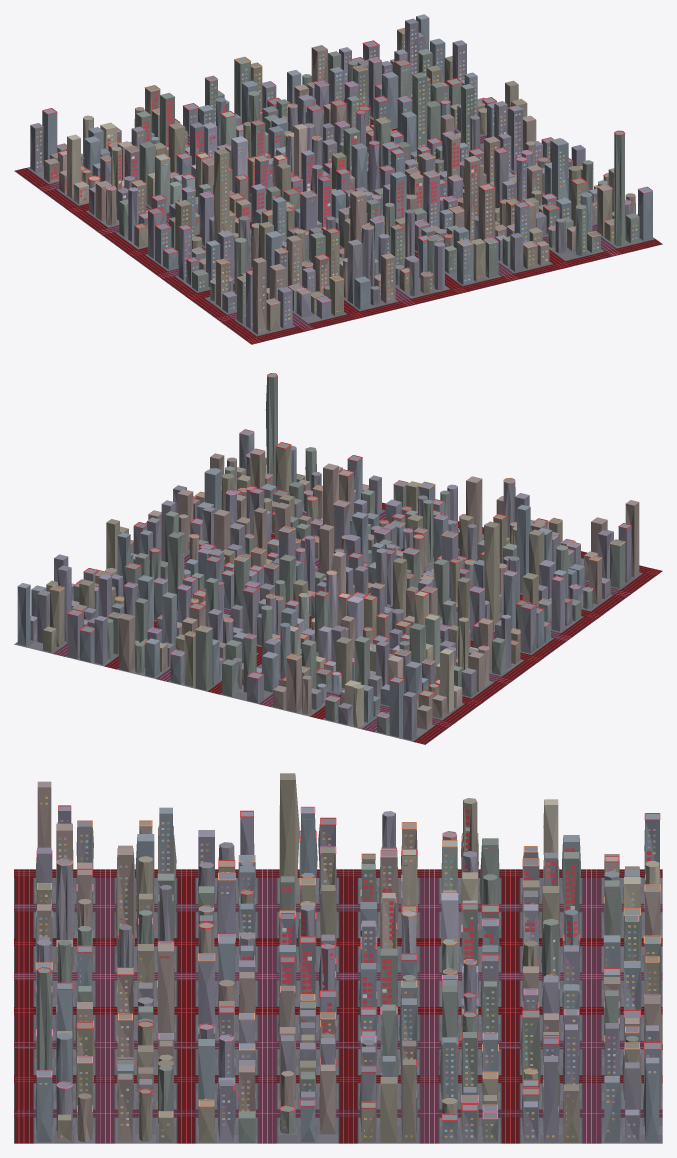
File: rebel_cell_district.glb
The picture shows the model from 3 angles, top to bottom: view 1: azimuth 30°, elevation 25°; view 2: azimuth 150°, elevation 25°; view 3: azimuth 270°, elevation 25°; orthographic projection. The views are drawn at different scales.
Parts seen in each view (by area): view 1: rebel_cell_district__solid, id_ground, rebel_cell_district__lines, rebel_cell_district__neon, rebel_cell_district__win_ring, rebel_cell_district__win_fist_dispatch; view 2: rebel_cell_district__solid, id_ground, rebel_cell_district__lines, rebel_cell_district__neon; view 3: rebel_cell_district__solid, id_ground, rebel_cell_district__lines, rebel_cell_district__neon, rebel_cell_district__win_ring, rebel_cell_district__win_fist_dispatch.
Boxes of the visible parts, x1=… form: rebel_cell_district__solid: x1=30, y1=14, x2=652, y2=334; id_ground: x1=14, y1=96, x2=662, y2=344; rebel_cell_district__lines: x1=58, y1=111, x2=307, y2=212; rebel_cell_district__neon: x1=42, y1=27, x2=652, y2=305; rebel_cell_district__win_ring: x1=36, y1=28, x2=637, y2=325; rebel_cell_district__win_fist_dispatch: x1=50, y1=94, x2=477, y2=226; rebel_cell_district__solid: x1=17, y1=373, x2=639, y2=740; id_ground: x1=14, y1=502, x2=662, y2=744; rebel_cell_district__lines: x1=276, y1=551, x2=478, y2=727; rebel_cell_district__neon: x1=50, y1=373, x2=631, y2=718; rebel_cell_district__solid: x1=35, y1=773, x2=662, y2=1142; id_ground: x1=14, y1=869, x2=662, y2=1143; rebel_cell_district__lines: x1=380, y1=799, x2=661, y2=998; rebel_cell_district__neon: x1=35, y1=805, x2=661, y2=1120; rebel_cell_district__win_ring: x1=39, y1=796, x2=656, y2=1137; rebel_cell_district__win_fist_dispatch: x1=159, y1=807, x2=650, y2=1032.
Bounding box in the file's own units: 192 × 49.63 × 192.
